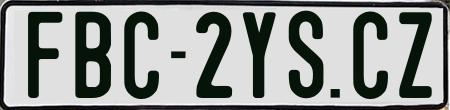2: (194, 11, 235, 97)
B: (73, 10, 113, 101)
C: (124, 9, 165, 103), (350, 10, 390, 103)
F: (27, 12, 63, 102)
S: (289, 11, 323, 99)
Y: (243, 11, 276, 97)
Z: (399, 11, 433, 98)
